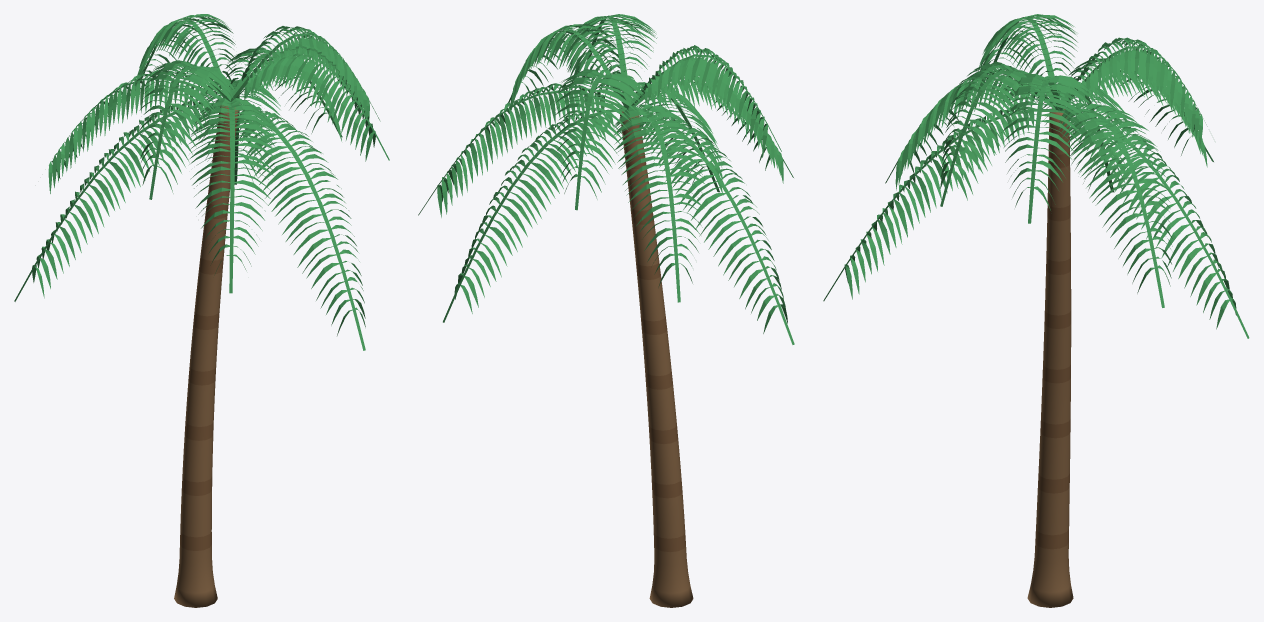
File: courtyard-fan.glb
3 renders of one model, left to right at view 1: azimuth 30°, elevation 25°; view 2: azimuth 150°, elevation 25°; view 3: azimuth 270°, elevation 25°, orthographic. The views are drawn at different scales.
Visible parts, largest first — view 1: courtyard-fan-feather-crown, courtyard-fan-ringed-trunk; view 2: courtyard-fan-feather-crown, courtyard-fan-ringed-trunk; view 3: courtyard-fan-feather-crown, courtyard-fan-ringed-trunk.
Part boxes in pixels (x1,y1,x2,y2): courtyard-fan-feather-crown: (14, 14, 389, 350); courtyard-fan-ringed-trunk: (174, 105, 238, 607); courtyard-fan-feather-crown: (418, 14, 794, 344); courtyard-fan-ringed-trunk: (620, 108, 693, 607); courtyard-fan-feather-crown: (823, 14, 1249, 338); courtyard-fan-ringed-trunk: (1027, 108, 1073, 607).
Size of the model in its own units: 5.69 by 8.4 by 5.68.
